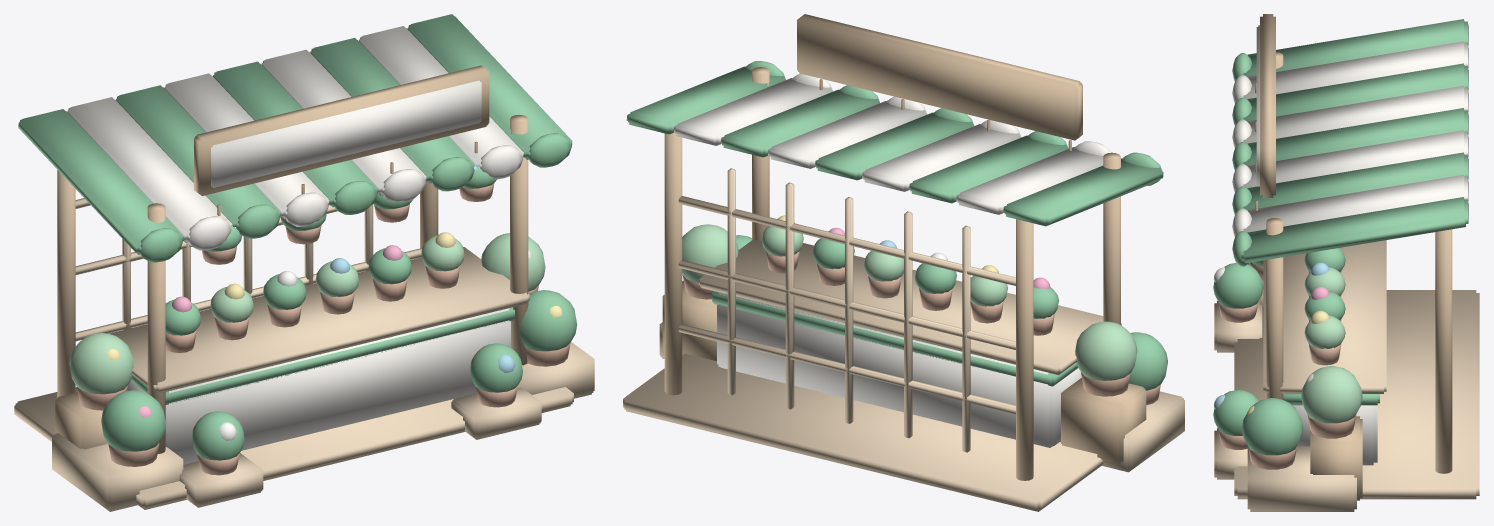
Rendered from FloristStand.fbx.
The picture shows the model from 3 angles, left to right: view 1: azimuth 30°, elevation 25°; view 2: azimuth 150°, elevation 25°; view 3: azimuth 270°, elevation 25°; orthographic projection. The views are drawn at different scales.
Visible parts, largest first — view 1: Florist_Base, Florist_CanopyFade; view 2: Florist_Base, Florist_CanopyFade; view 3: Florist_Base, Florist_CanopyFade.
Part boxes in pixels (left/top/right/bottom): Florist_Base: left=14, top=65, right=594, bottom=511; Florist_CanopyFade: left=18, top=14, right=572, bottom=262; Florist_Base: left=623, top=14, right=1184, bottom=511; Florist_CanopyFade: left=626, top=61, right=1163, bottom=226; Florist_Base: left=1213, top=14, right=1479, bottom=511; Florist_CanopyFade: left=1232, top=19, right=1468, bottom=266.
Size of the model in its own units: 4.62 by 3.12 by 2.34.
